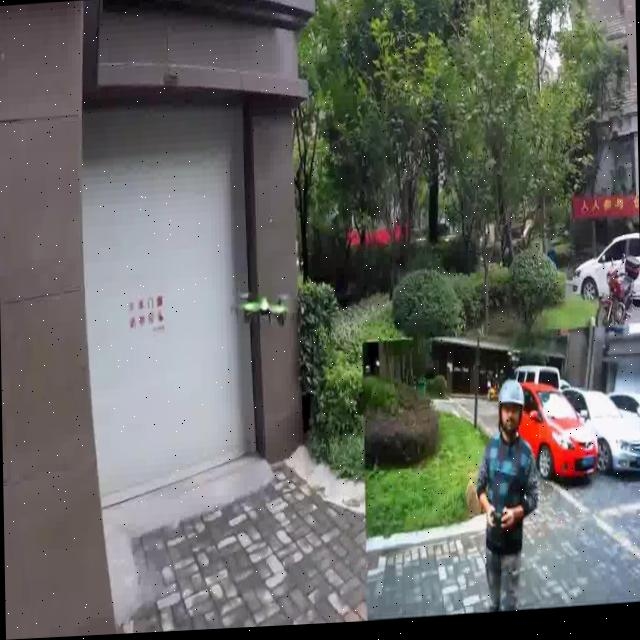drone: (222, 279, 294, 346)
